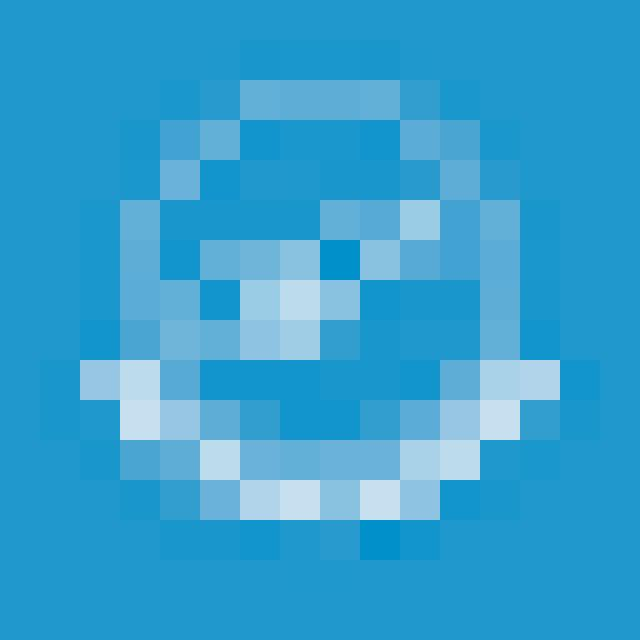sock: (40, 40, 560, 520)
